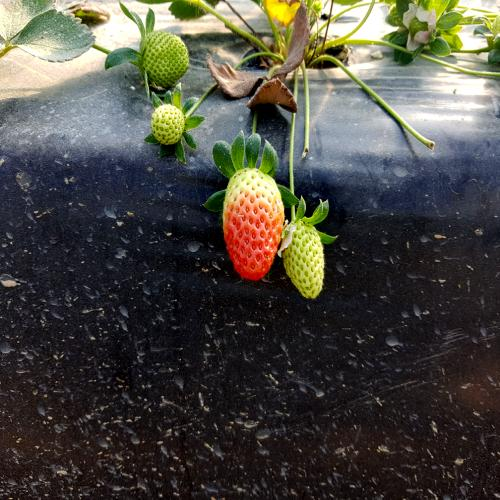partially-ripe: (210, 152, 292, 291)
